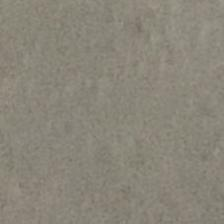Non_Crack: (11, 14, 224, 219)
